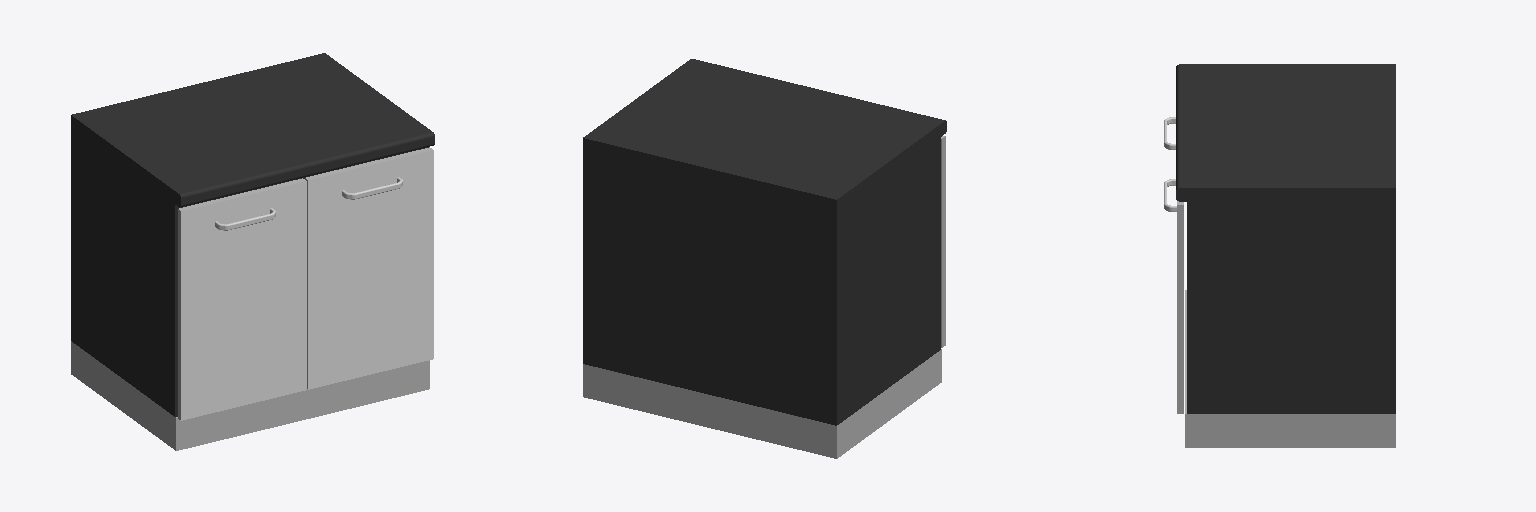
Rendered from kitchen_angle.obj.
3 renders of one model, left to right at view 1: azimuth 30°, elevation 25°; view 2: azimuth 150°, elevation 25°; view 3: azimuth 270°, elevation 25°, orthographic.
Parts seen in each view (by area): view 1: Line67_10, Box522_4, Box532_7, Rectangle17_11, Box54_9, Box523_5; view 2: Rectangle17_11, Line67_10, Box54_9, Box523_5; view 3: Rectangle17_11, Line67_10, Box54_9, Box533_8.
Boxes of the visible parts, x1,y1,x2,y2 form: Line67_10: [71, 53, 434, 207]; Box522_4: [181, 181, 306, 420]; Box532_7: [308, 150, 433, 389]; Rectangle17_11: [71, 129, 428, 416]; Box54_9: [71, 341, 429, 450]; Box523_5: [178, 209, 180, 419]; Rectangle17_11: [583, 137, 940, 425]; Line67_10: [583, 59, 946, 212]; Box54_9: [583, 349, 941, 458]; Box523_5: [941, 136, 945, 347]; Rectangle17_11: [1187, 202, 1395, 413]; Line67_10: [1176, 64, 1395, 201]; Box54_9: [1185, 290, 1395, 447]; Box533_8: [1177, 205, 1183, 413].
Bounding box in the file's own units: 80 × 78 × 63.38.